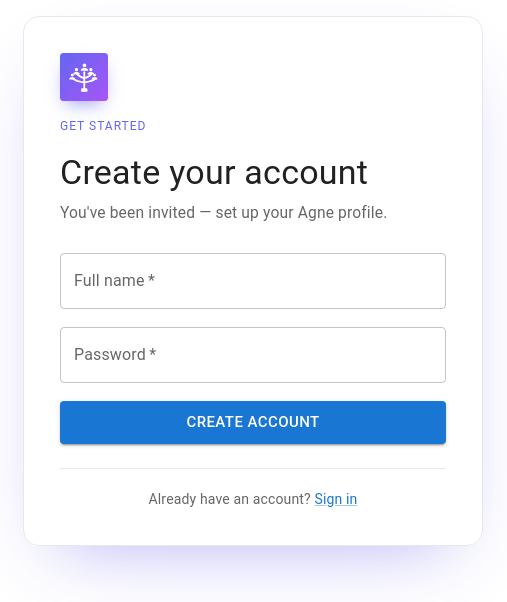
Test case: Register page (invitation-only) › D-08/W-2: invited-path success paragraph promises "verify, then sign in" with no review/approve wording
Type "Ada" into the field labelled "Full name". click: (253, 281)
box: top-left (60, 253), bottom-right (446, 309)
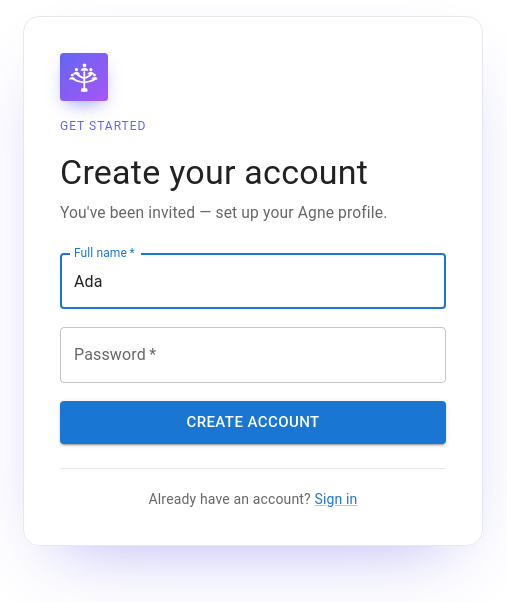
Type "secret123" into the password field labelled "Password". click: (253, 355)
box: top-left (60, 327), bottom-right (446, 383)
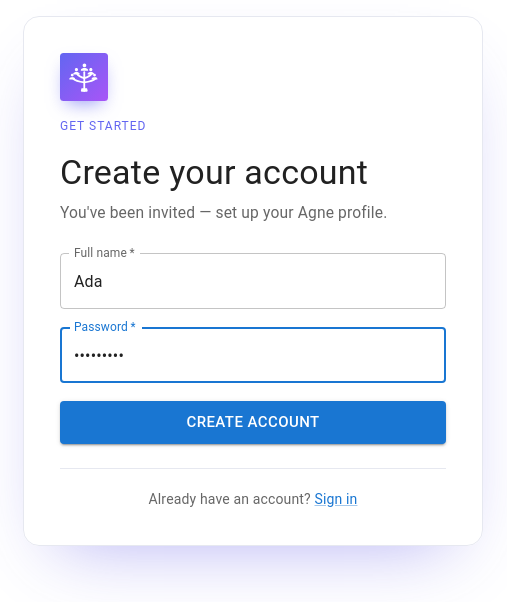
Click the button "Create account". click: (253, 423)
box: top-left (60, 401), bottom-right (446, 444)
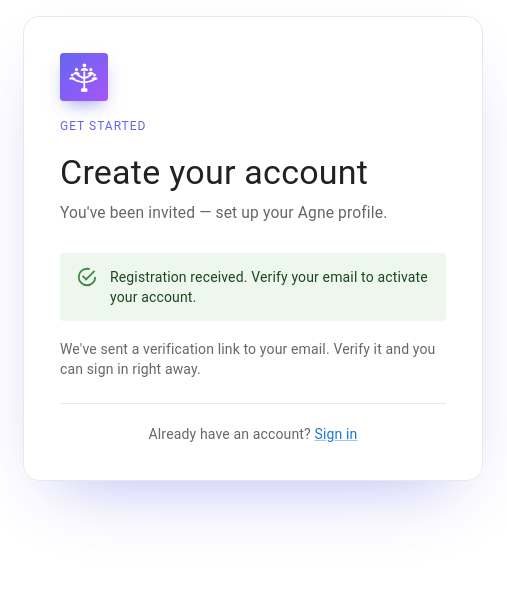
Check: the text "verify it and you can sign in right away" is shown, box top-left (60, 341), bottom-right (436, 377)
